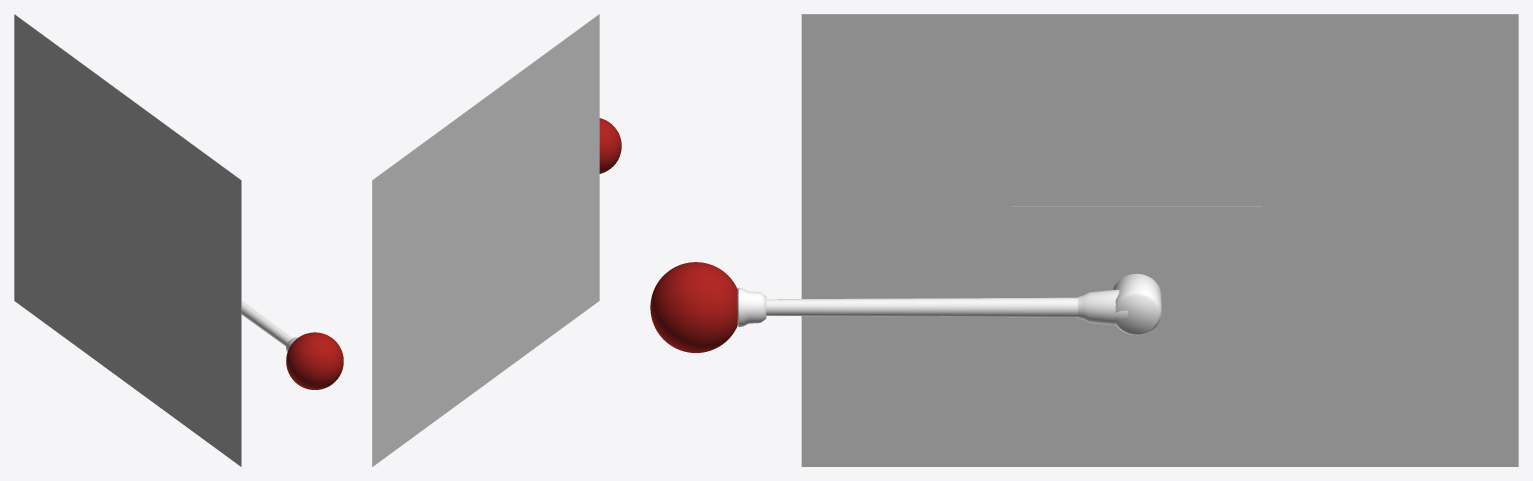
File: hebel.glb
3 renders of one model, left to right at view 1: azimuth 30°, elevation 25°; view 2: azimuth 150°, elevation 25°; view 3: azimuth 270°, elevation 25°, orthographic. The views are drawn at different scales.
Visible parts, largest first — view 1: Schattenwand, Hebel Knauf, Hebel Stange; view 2: Schattenwand, Hebel Knauf; view 3: Schattenwand, Schattenplatte, Hebel Knauf, Hebel Stange, Hebel Nabe, Hebel Schelle, Hebel Manschette.
Part boxes in pixels (x1,y1,x2,y2): Schattenwand: [14, 14, 241, 466]; Hebel Knauf: [286, 332, 343, 389]; Hebel Stange: [241, 300, 291, 346]; Schattenwand: [372, 14, 599, 466]; Hebel Knauf: [599, 118, 621, 173]; Schattenwand: [801, 14, 1518, 466]; Schattenplatte: [1011, 206, 1261, 352]; Hebel Knauf: [650, 262, 737, 352]; Hebel Stange: [766, 297, 1077, 317]; Hebel Nabe: [1113, 273, 1161, 335]; Hebel Schelle: [1078, 289, 1127, 325]; Hebel Manschette: [737, 287, 766, 327].
Size of the model in its own units: 0.081 by 0.34 by 0.591.
